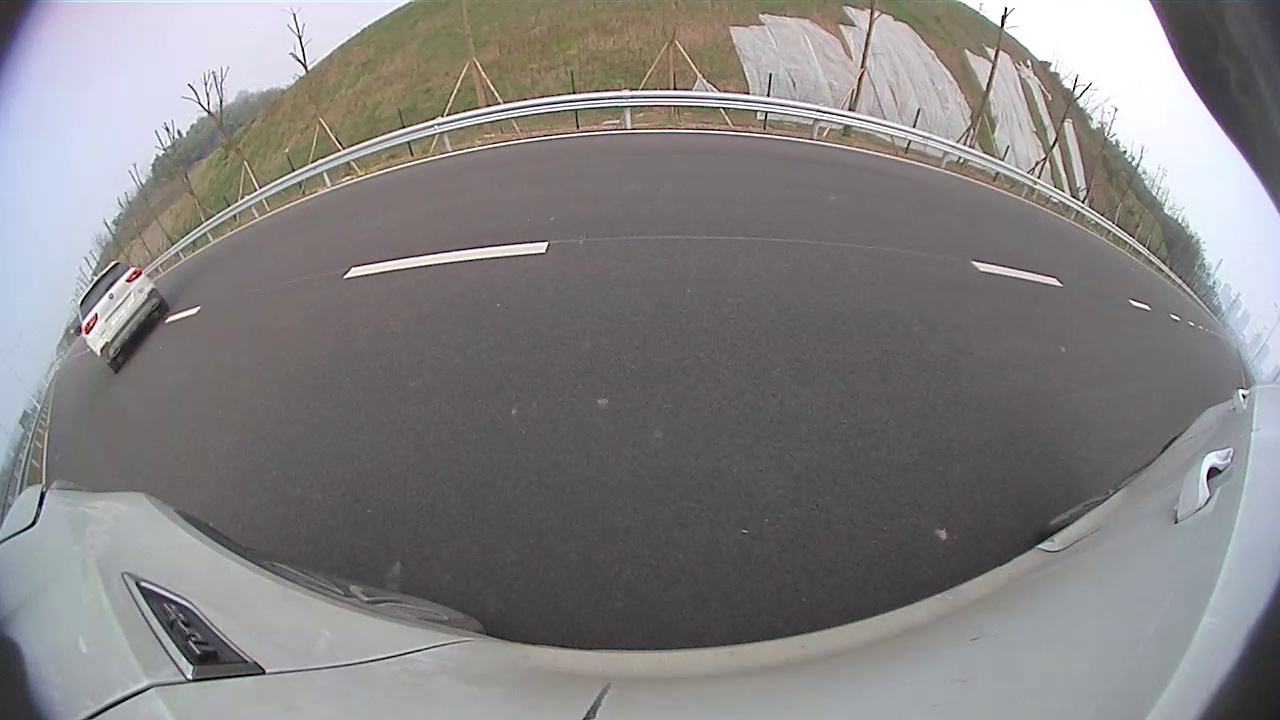car: (502, 119, 634, 225)
rear: (609, 175, 623, 217)
